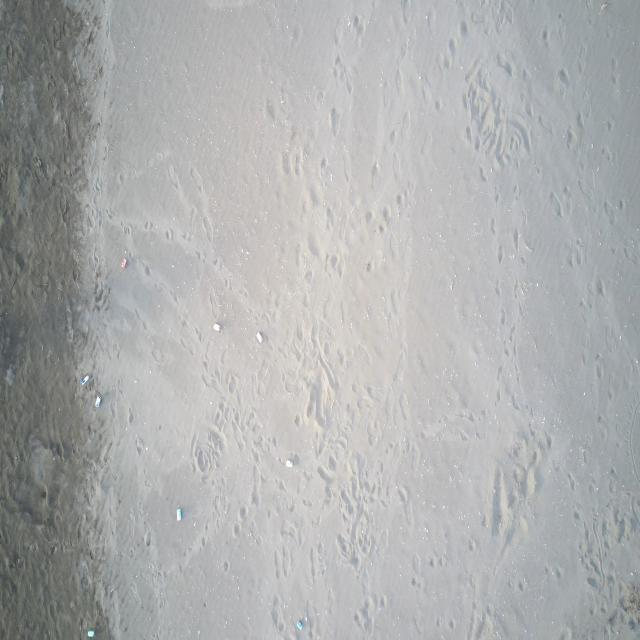Garbage: (284, 453, 299, 467), (4, 366, 15, 384), (120, 256, 127, 268), (256, 331, 263, 343), (94, 393, 100, 407), (80, 375, 89, 384), (296, 619, 303, 630), (176, 507, 181, 520), (212, 323, 220, 331), (284, 459, 292, 467), (87, 628, 94, 636)
